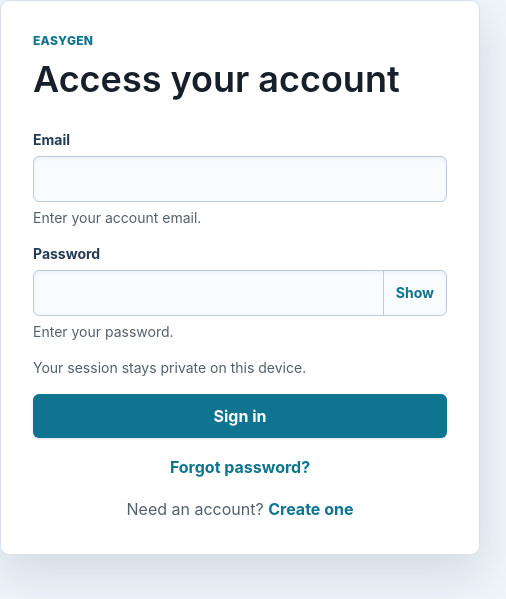
it: SigninPage › shows required signin validation
Click the button "Sign in" at (240, 416), box [33,394,447,438]
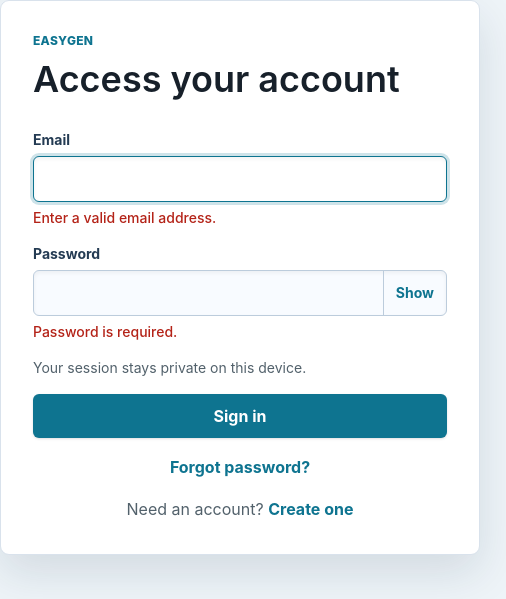
expect the text "Enter a valid email address." is shown: met, box [33,209,216,226]
expect the text "Password is required." is shown: met, box [33,323,177,340]
